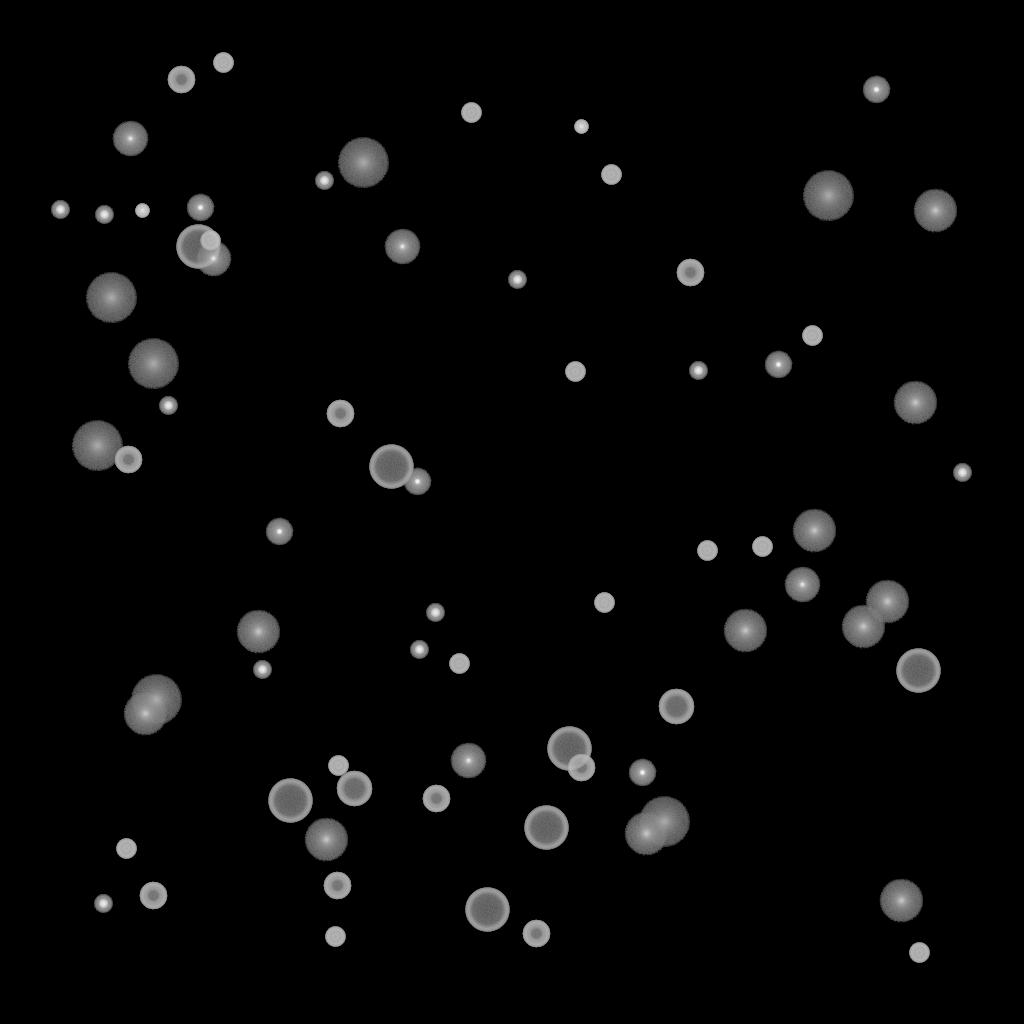depth:-10: (862, 76, 890, 104), (403, 468, 431, 496), (764, 351, 792, 379), (186, 194, 214, 222), (628, 759, 656, 787), (265, 518, 293, 546)
depth:-20: (253, 661, 271, 679), (953, 464, 971, 482), (159, 397, 177, 415), (689, 362, 707, 380), (410, 641, 428, 659), (426, 604, 444, 622), (508, 271, 526, 289), (95, 206, 113, 224), (51, 201, 69, 219), (94, 895, 112, 913), (315, 172, 333, 190)
depth:-30: (574, 120, 588, 134), (135, 204, 149, 218)
depth:-40: (461, 103, 481, 123), (601, 165, 621, 185), (594, 593, 614, 613), (325, 927, 345, 947), (909, 943, 929, 963), (565, 362, 585, 382), (328, 756, 348, 776), (449, 654, 469, 674), (697, 541, 717, 561), (116, 839, 136, 859), (752, 537, 772, 557), (213, 53, 233, 73), (802, 326, 822, 346), (200, 231, 220, 251)
depth:-50: (567, 754, 595, 782), (522, 920, 550, 948), (114, 446, 142, 474), (326, 400, 354, 428), (139, 882, 167, 910), (422, 785, 450, 813), (323, 872, 351, 900), (167, 66, 195, 94), (676, 259, 704, 287)
depth:-60: (336, 771, 372, 807), (658, 689, 694, 725)
depth:-70: (547, 727, 591, 771), (524, 806, 568, 850), (896, 649, 940, 693), (369, 445, 413, 489), (268, 779, 312, 823), (465, 888, 509, 932), (176, 225, 220, 269)
depth:0: (450, 743, 486, 779), (784, 567, 820, 603), (112, 121, 148, 157), (384, 229, 420, 265), (195, 241, 231, 277)
depth:10: (865, 580, 909, 624), (304, 818, 348, 862), (841, 605, 885, 649), (913, 189, 957, 233), (624, 812, 668, 856), (792, 509, 836, 553), (893, 381, 937, 425), (723, 609, 767, 653), (236, 610, 280, 654), (123, 692, 167, 736), (879, 879, 923, 923)
depth:20: (71, 421, 123, 471), (85, 273, 137, 323), (337, 138, 389, 188), (638, 797, 690, 847), (802, 171, 854, 221), (130, 675, 182, 725), (127, 339, 179, 389)
